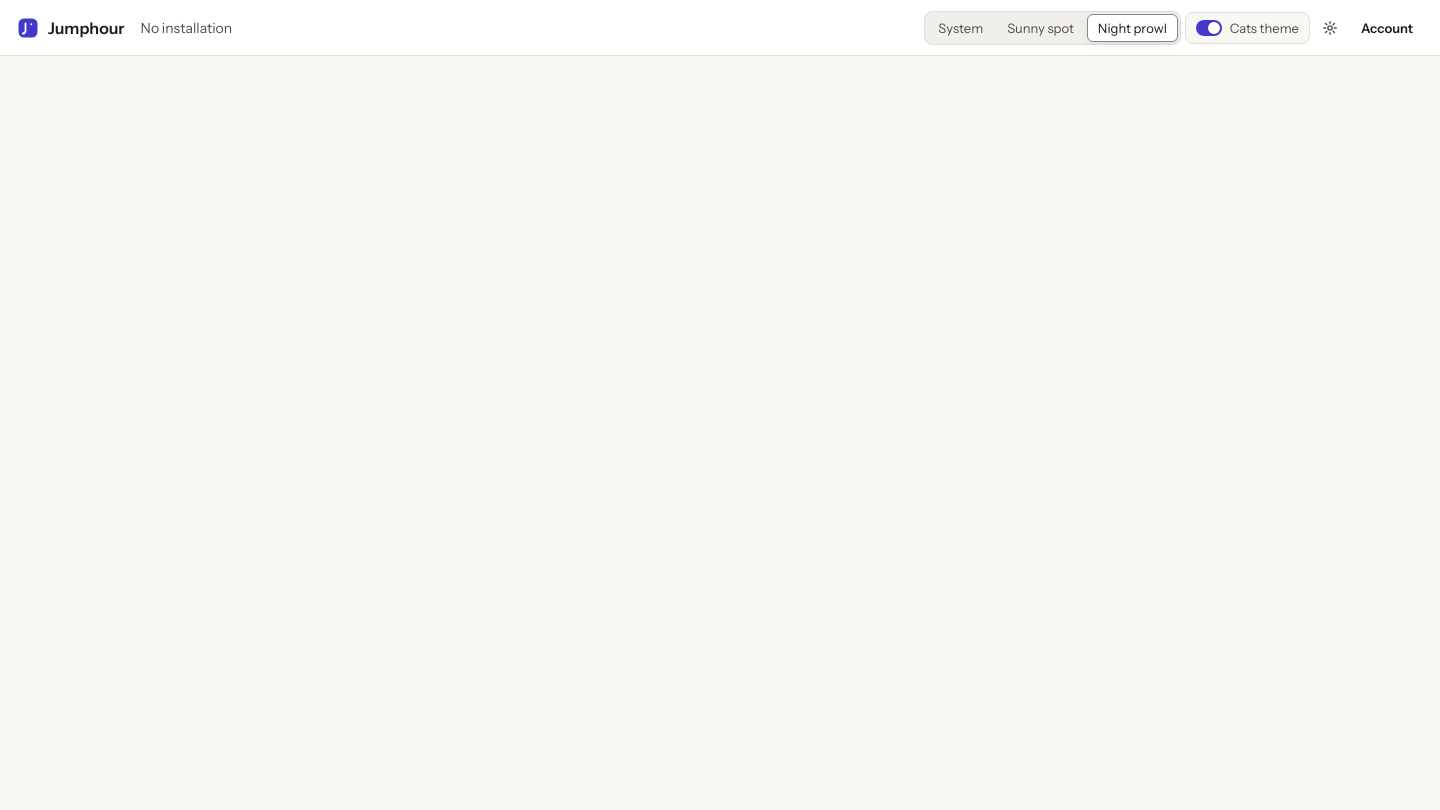
what stays reachable below the breakpoint › offers both preferences in settings, outside the collapsible slots
Click the button named "Settings".
click(1330, 28)  # box [1314,12,1346,44]
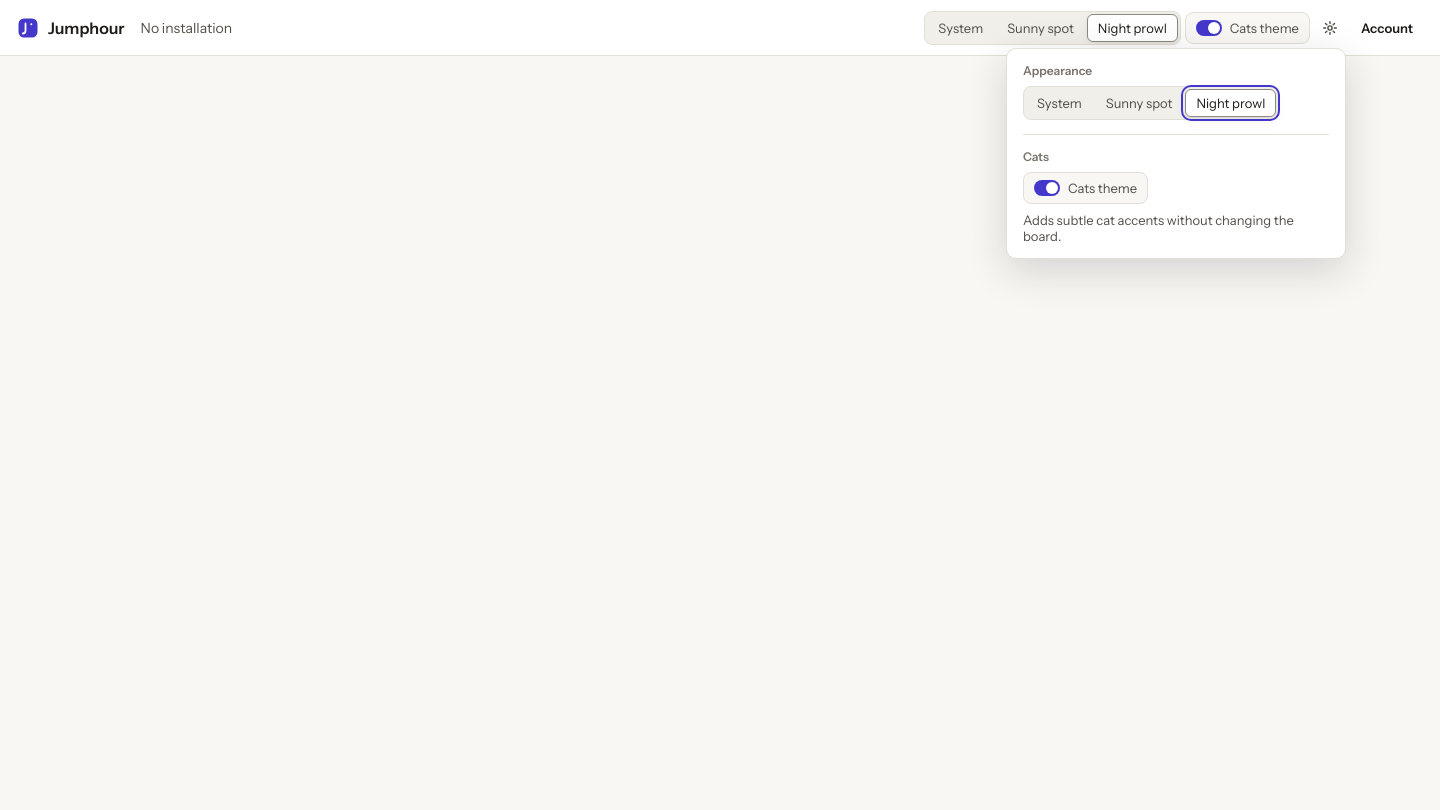
Check: the element named "Theme" is shown, box [1023,86,1279,120]
Check: the switch labelled "Cats theme" below "Appearance" is shown, box [1023,172,1148,204]
